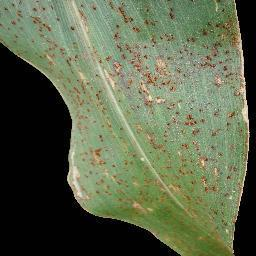Corn_Common_Rust: (104, 1, 251, 256), (0, 0, 104, 222)
